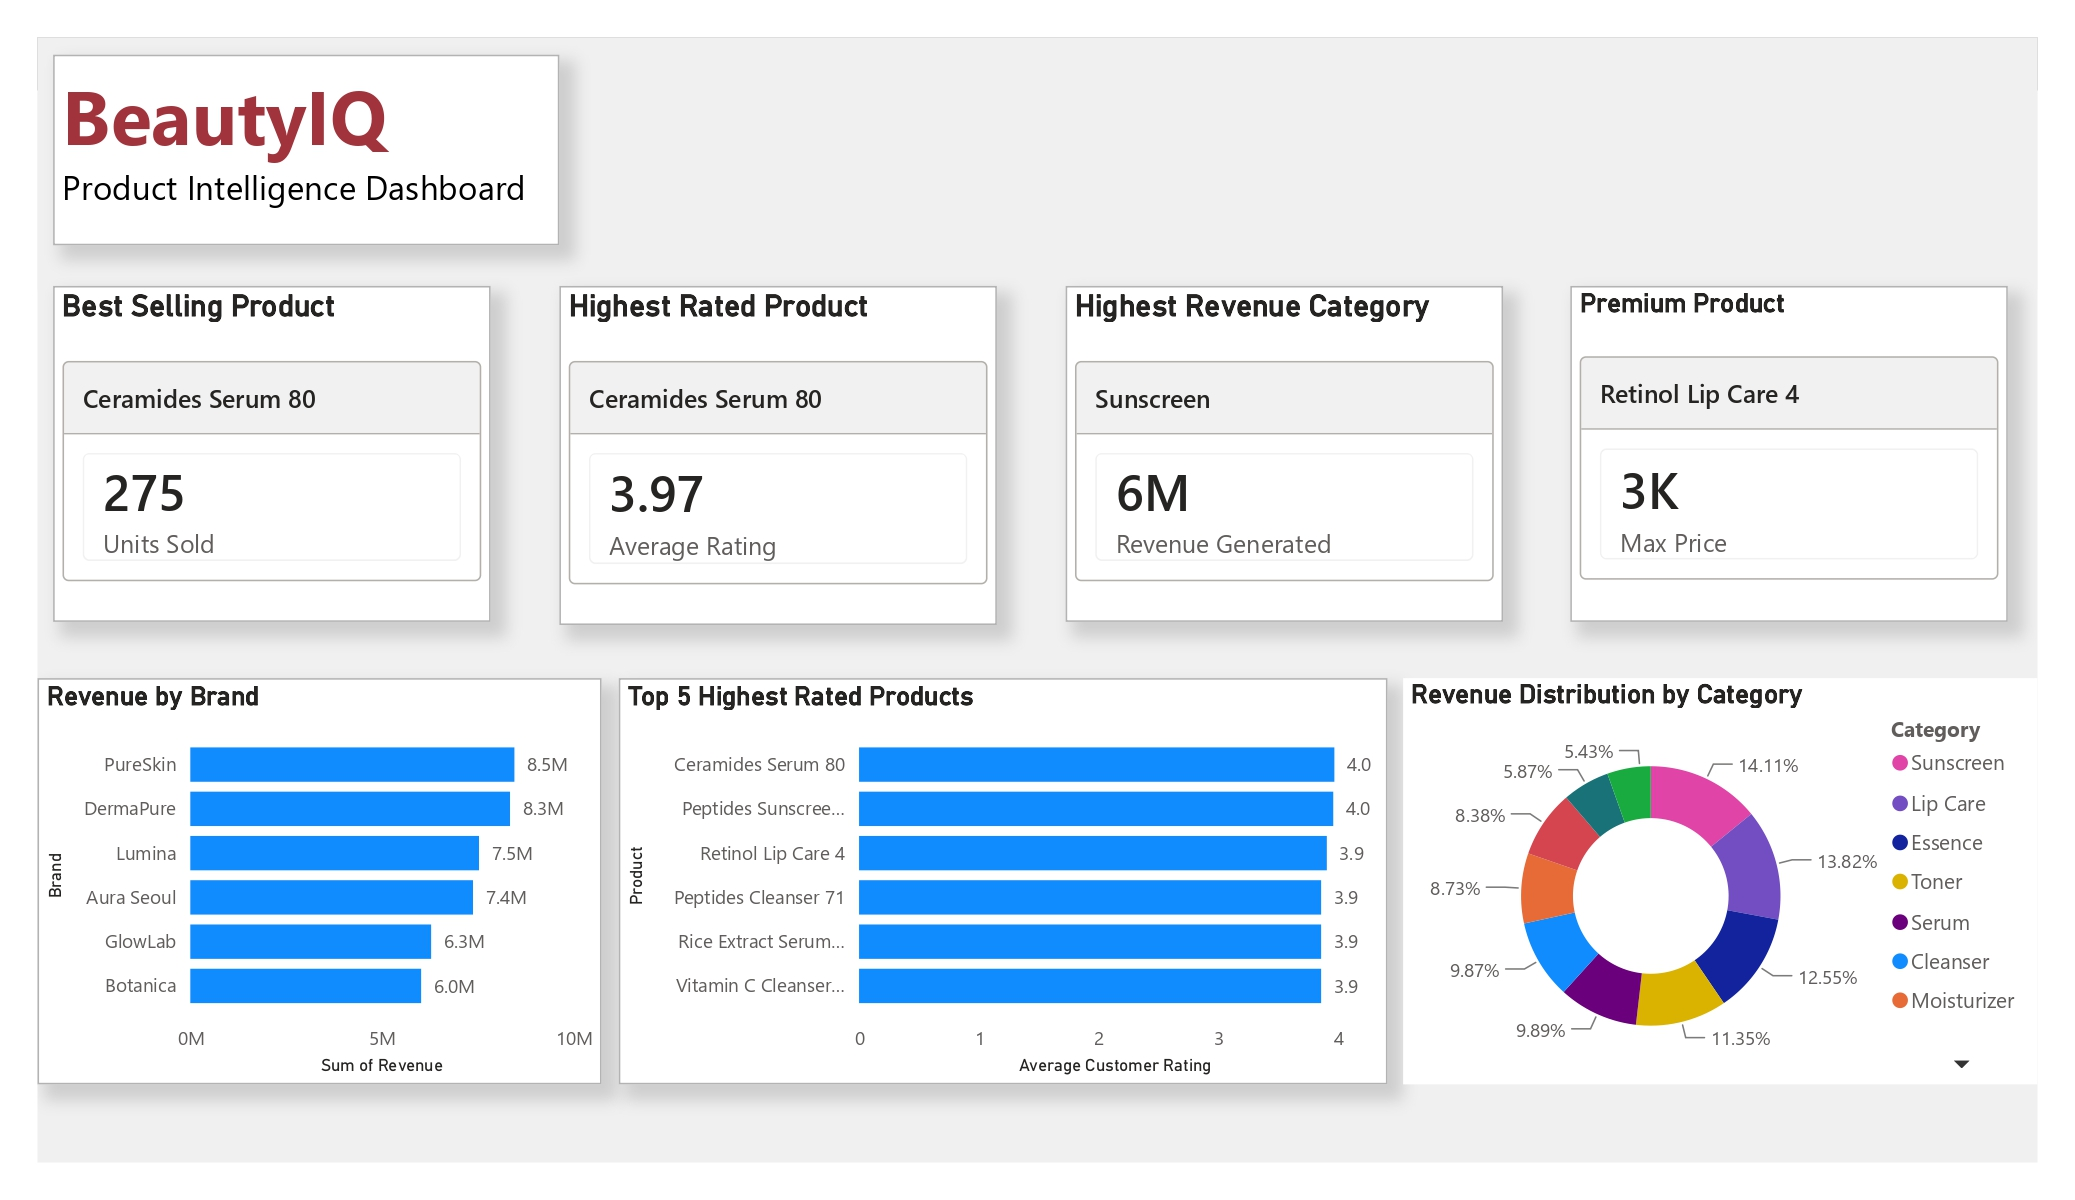

What the dashboard file says about the page in this screenshot:
{"tool":"powerbi","page":{"name":"Product Intelligence","canvas":[1280,720],"ordinal":2},"visuals":[{"type":"textbox","box":[10,11.4,324.3,121.4],"z":0},{"type":"cardVisual","title":"Best Selling Product","fields":{"Data":["DimBrand.Total Quantity Sold"],"Rows":["DimProduct.Product"]},"box":[10,158.6,280,215.7],"z":1000},{"type":"cardVisual","title":"Highest Rated Product","fields":{"Data":["FactReviews.Average Rating"],"Rows":["DimProduct.Product"]},"box":[333.8,158.6,280,217.1],"z":2000},{"type":"cardVisual","title":"Highest Revenue Category","fields":{"Data":["Sum(FactSales.Revenue)"],"Rows":["DimProduct.Category"]},"box":[657.6,158.6,280,215.7],"z":3000},{"type":"cardVisual","title":"Premium Product","fields":{"Rows":["DimProduct.Product"],"Data":["Sum(DimProduct.Price)"]},"box":[981.4,158.6,280,215.7],"z":4000},{"type":"clusteredBarChart","title":"Revenue by Brand","fields":{"Category":["DimBrand.Brand"],"Y":["Sum(FactSales.Revenue)"]},"box":[0,410,361.4,260],"z":5000},{"type":"clusteredBarChart","title":"Top 5 Highest Rated Products","fields":{"Y":["FactReviews.Average Rating"],"Category":["DimProduct.Product"]},"box":[372.1,410,491.4,260],"z":6000},{"type":"donutChart","title":"Revenue Distribution by Category","fields":{"Category":["DimProduct.Category"],"Y":["Sum(FactSales.Revenue)"]},"box":[874.3,410,405.7,260],"z":7000}]}

Visuals, with their boxes on the page's 1280x720 design canvas (x1, y1, x2, y2). These are canvas units, not pixel positions in the 2075x1200 screenshot, which may show the page scaled, cropped or inside an application window:
textbox: <box>10,11,334,133</box>
"Best Selling Product" cardVisual: <box>10,159,290,374</box>
"Highest Rated Product" cardVisual: <box>334,159,614,376</box>
"Highest Revenue Category" cardVisual: <box>658,159,938,374</box>
"Premium Product" cardVisual: <box>981,159,1261,374</box>
"Revenue by Brand" clusteredBarChart: <box>0,410,361,670</box>
"Top 5 Highest Rated Products" clusteredBarChart: <box>372,410,864,670</box>
"Revenue Distribution by Category" donutChart: <box>874,410,1280,670</box>
